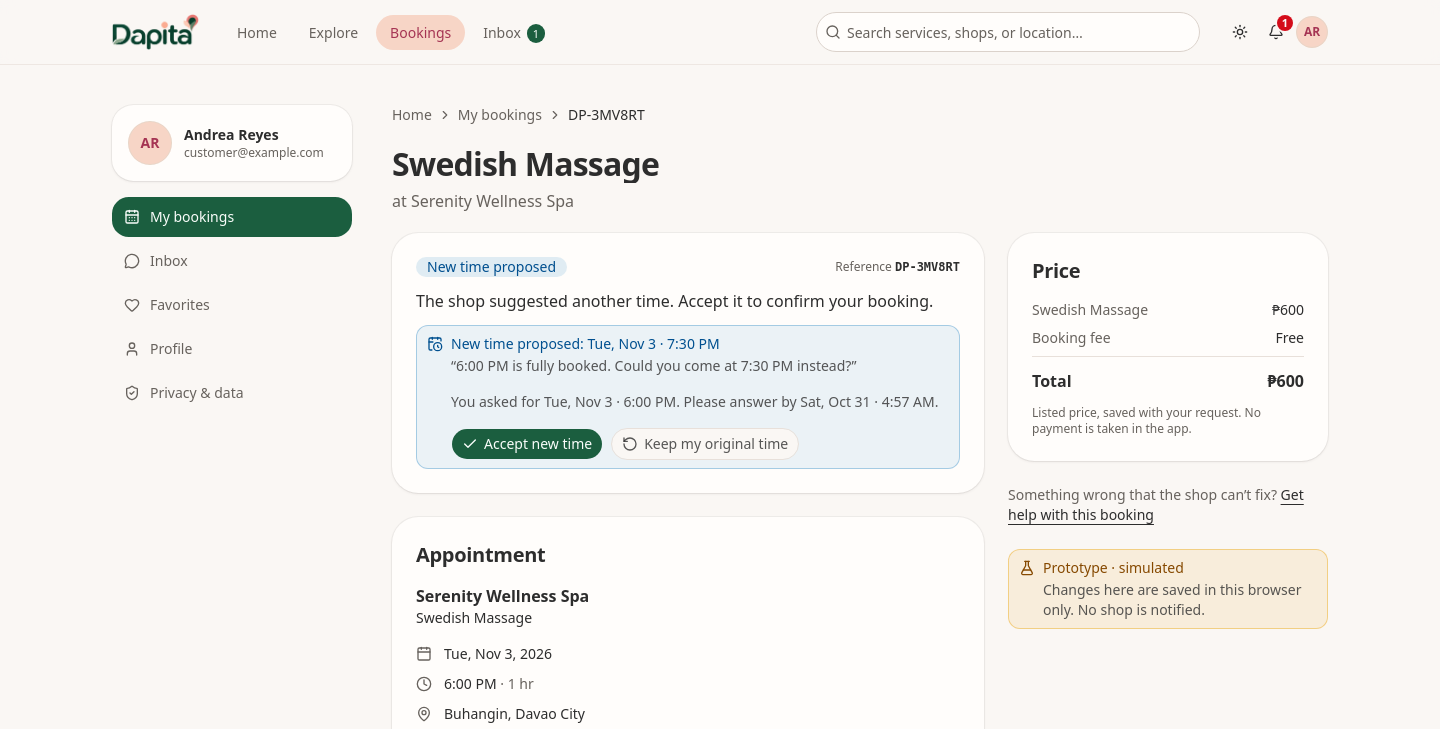
Test: my bookings (design screen 11) › confirms a booking only when the customer accepts the proposed time
Expected: the text "New time proposed: Tue, Nov 3 · 7:30 PM" is shown, [451,334,720,353]
Expected: the text "Could you come at 7:30 PM instead" is shown, [456,356,851,375]
Click the button "Accept new time" at point(527, 444), box [451,428,603,460]
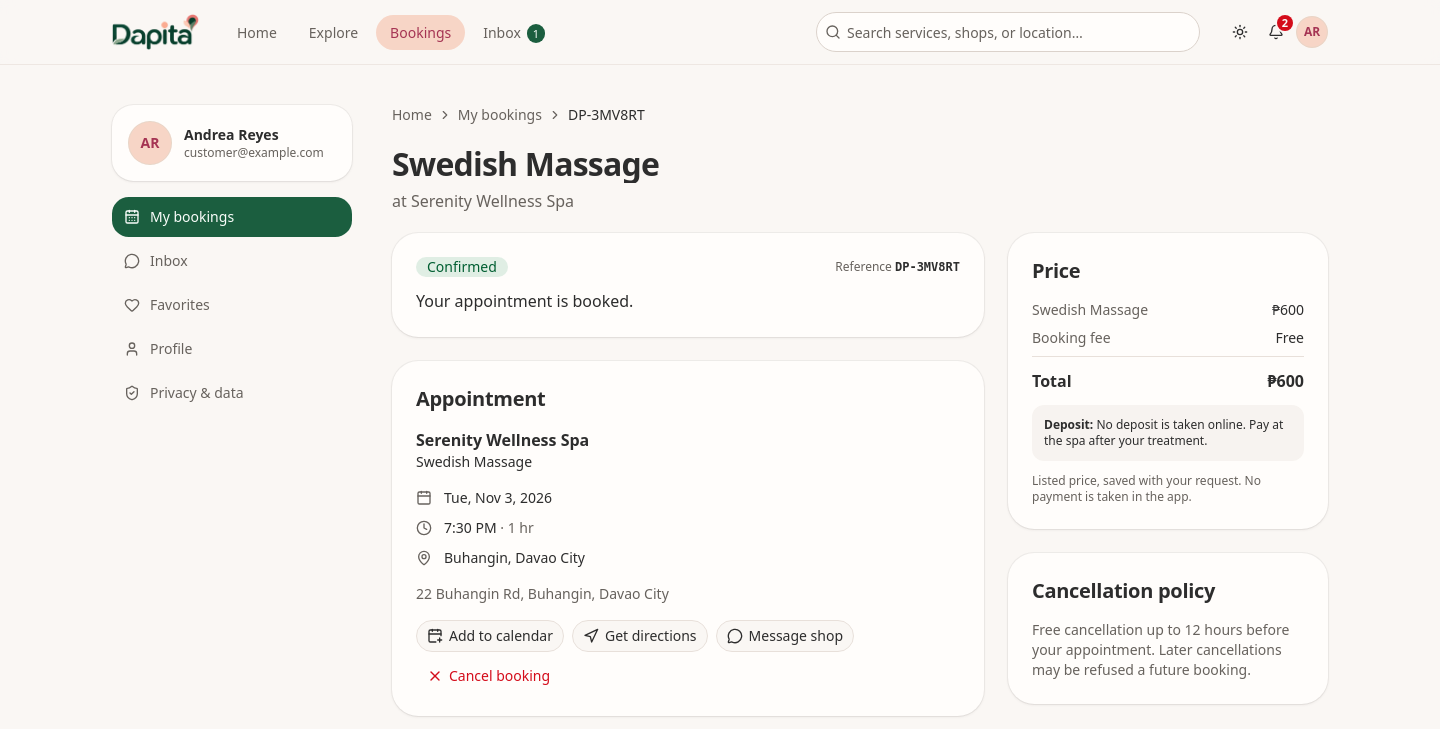
Result: the element named "Status" shows "Confirmed" at [427,257,497,276]
Result: the button "Add to calendar" is shown at [416,620,564,652]
